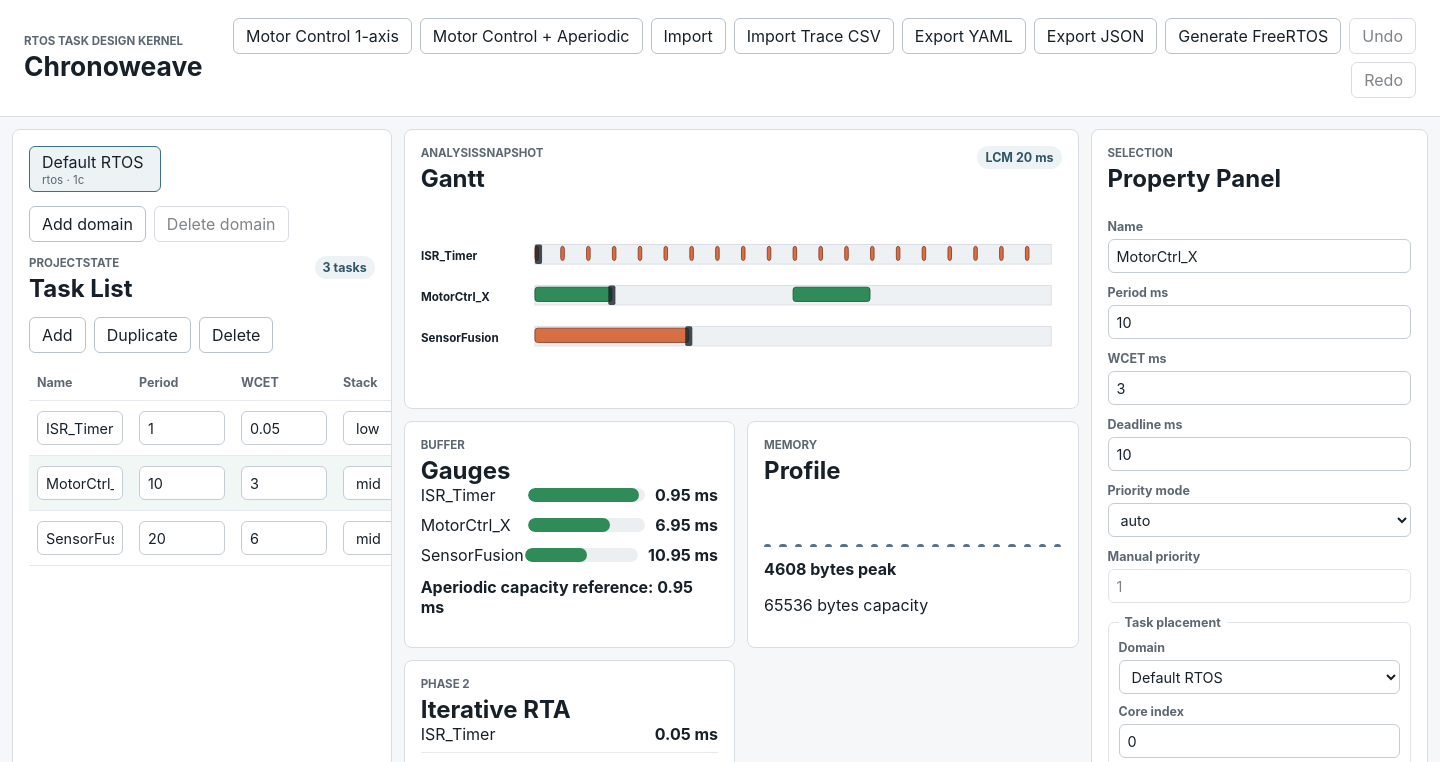
Test case: App shell › updates task list and property panel fields through ProjectState
Replace the text in the number field named "MotorCtrl_X wcet" with "4" at {"x": 284, "y": 483}, box [241,466,327,500]
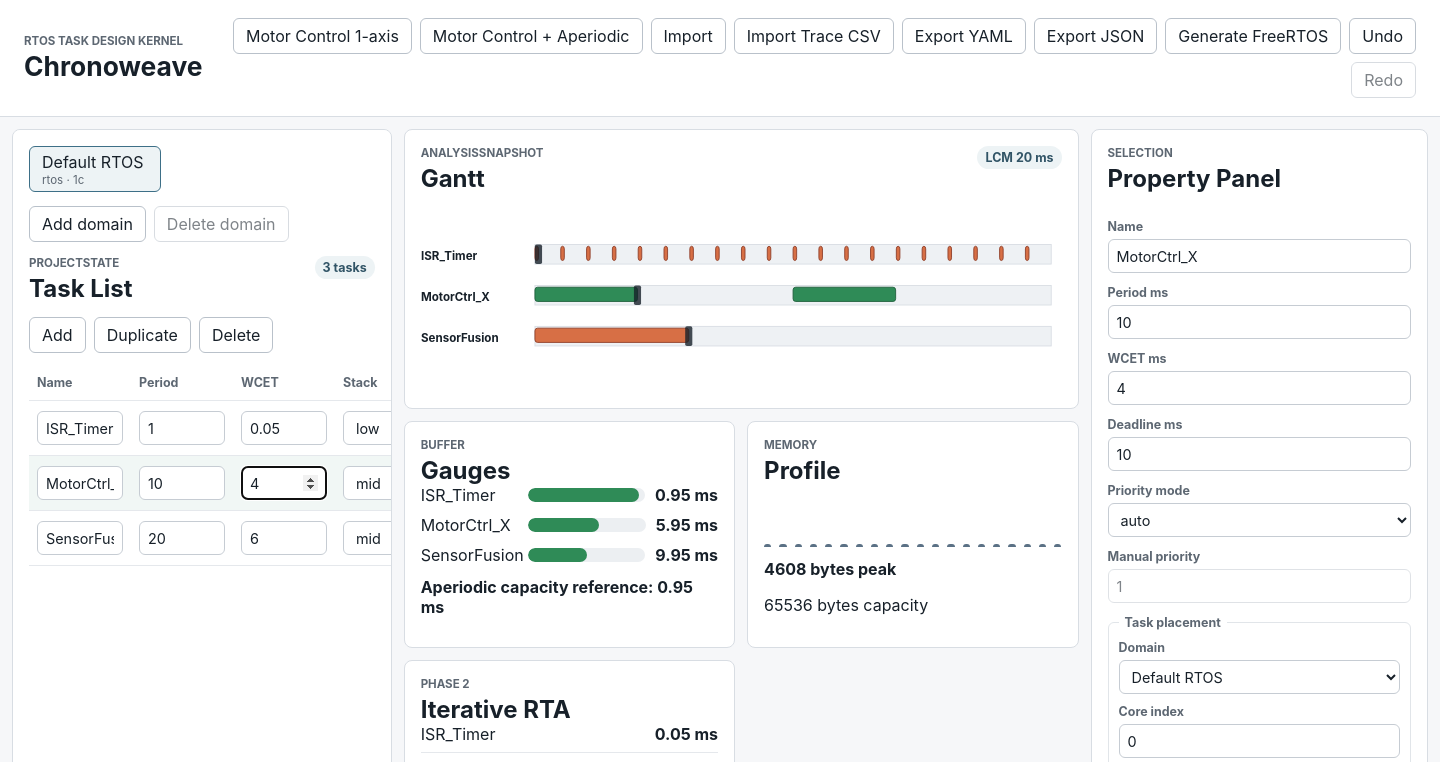
Now the number field labelled "WCET ms" holds "4", box [1108,371,1411,405]
Click the field named "SensorFusion name".
click(80, 538)  # box [37,521,123,555]
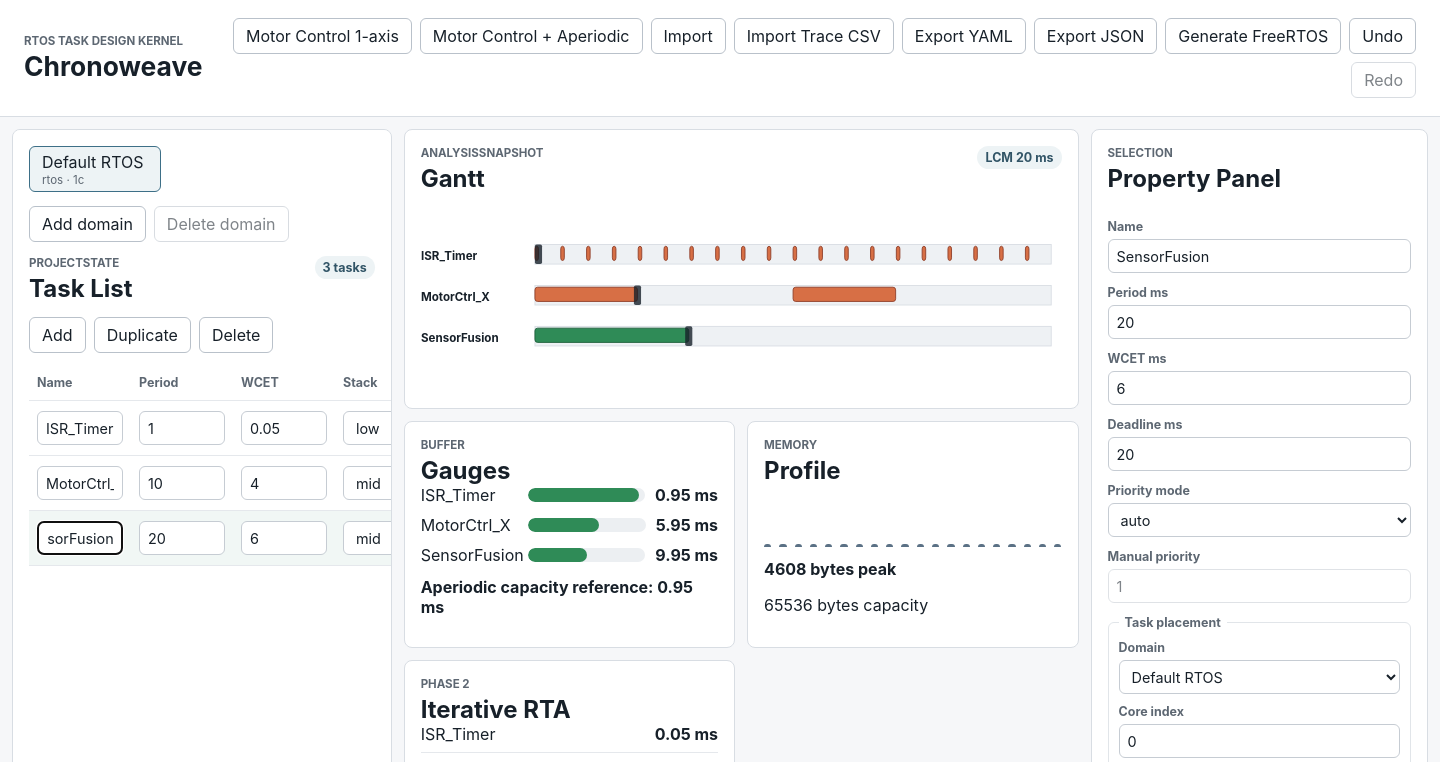
Replace the text in the field labelled "Name" with "SensorFusionFast" at {"x": 1259, "y": 256}, box [1108,239,1411,273]
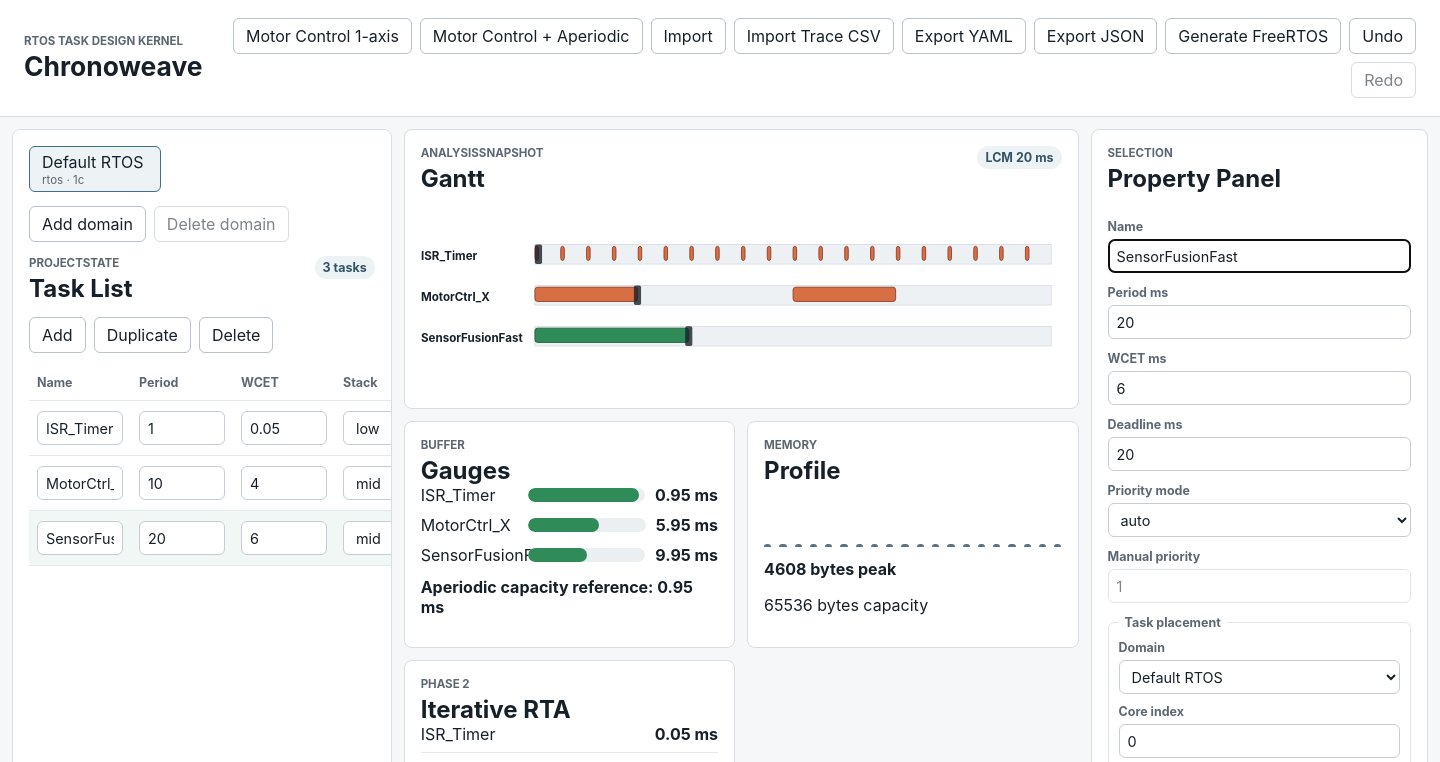
Now the field named "SensorFusionFast name" is shown, box [37,521,123,555]
